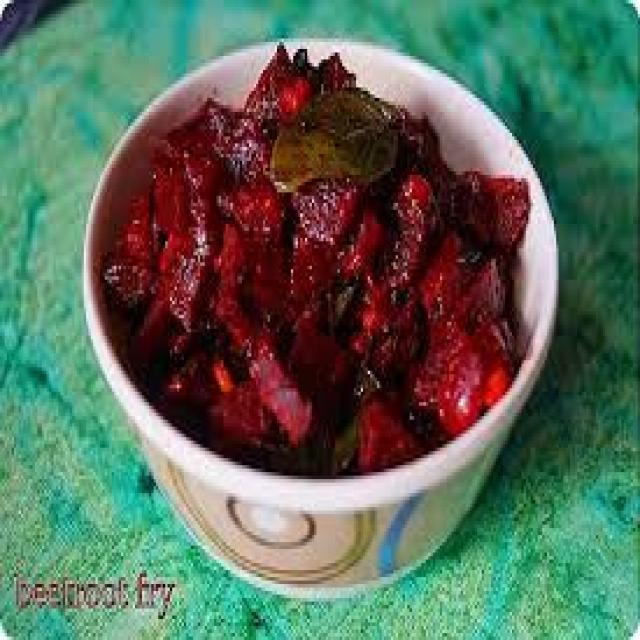beetroot poriyal: (105, 51, 535, 457)
